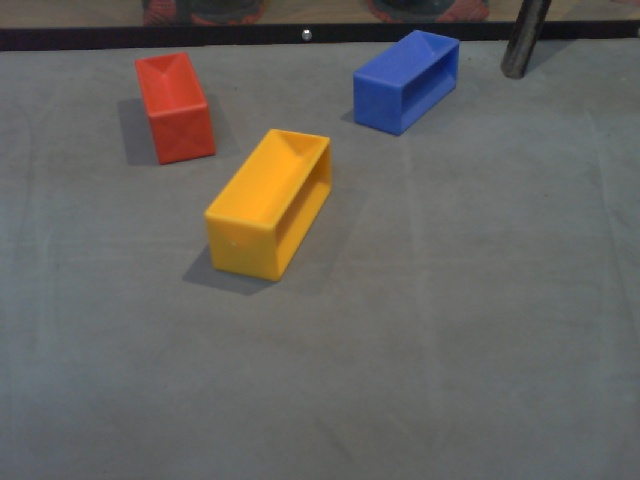BlueSample: (347, 24, 459, 144)
RedSample: (131, 49, 217, 170)
YellowSample: (202, 125, 340, 296)
